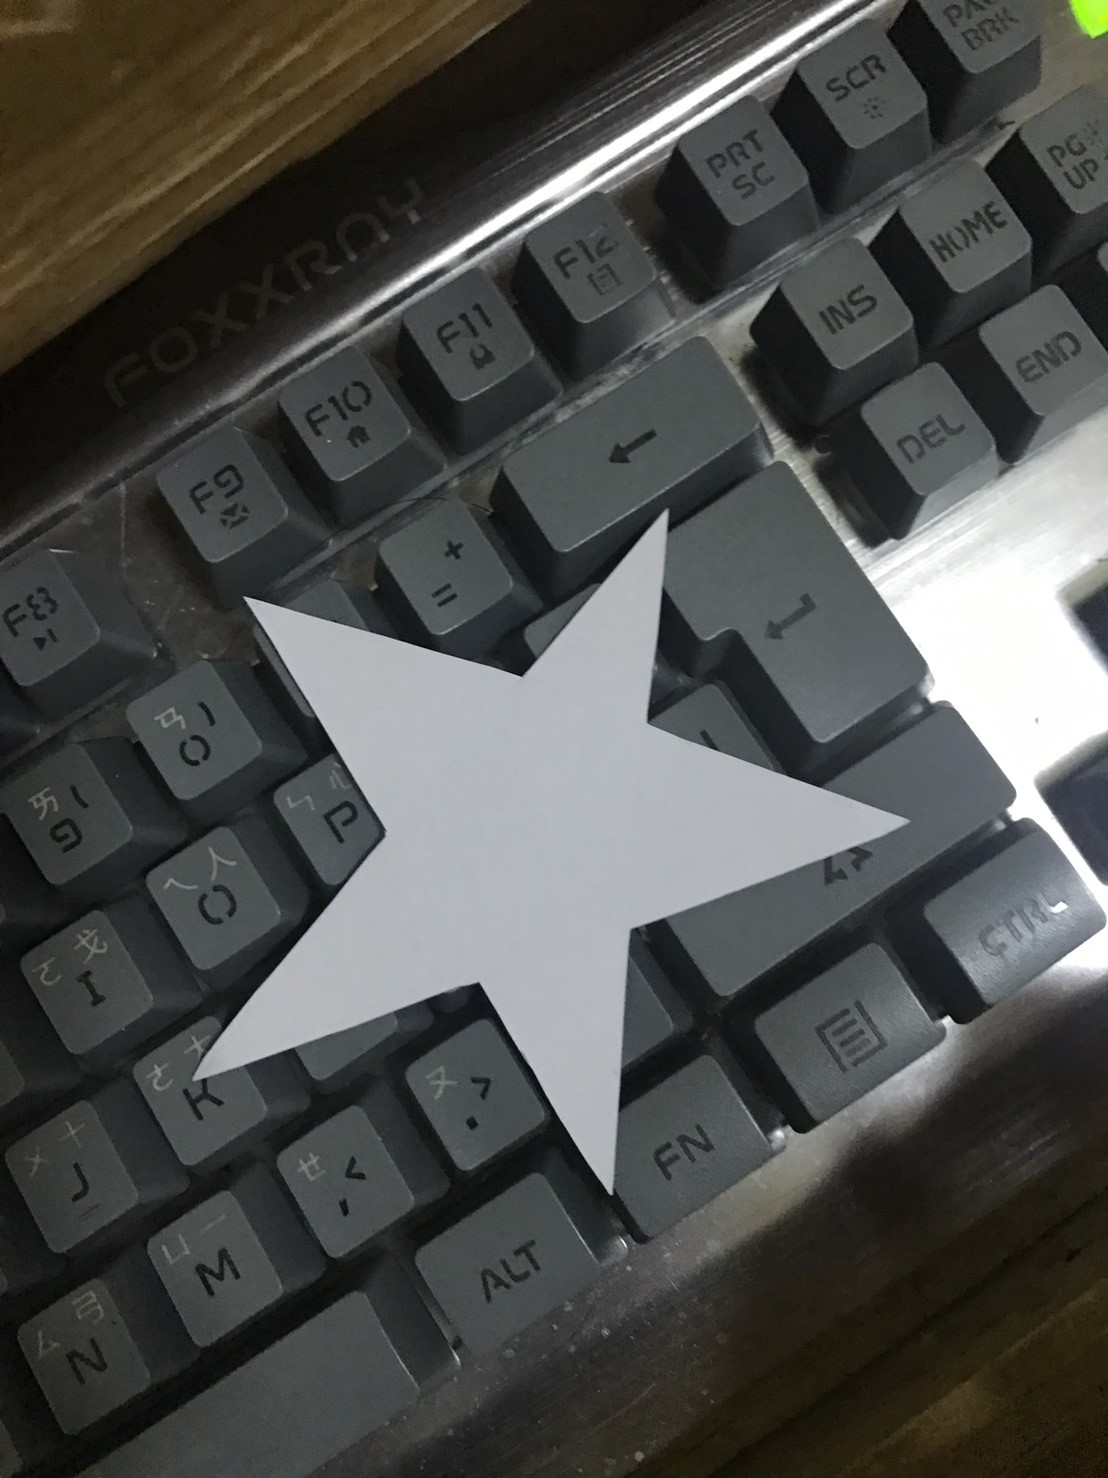star: (155, 486, 919, 1243)
